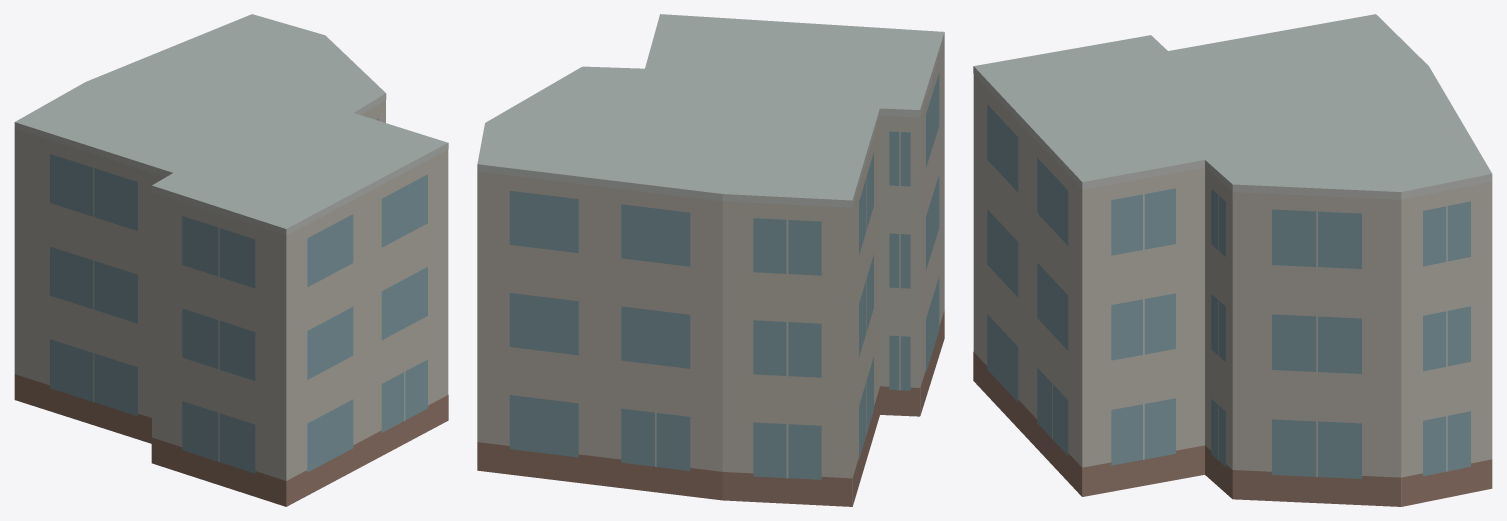
File: survey-upis-33036724.glb
3 renders of one model, left to right at view 1: azimuth 30°, elevation 25°; view 2: azimuth 150°, elevation 25°; view 3: azimuth 270°, elevation 25°, orthographic. The views are drawn at different scales.
Parts seen in each view (by area): view 1: survey-upis-33036724.tmp; view 2: survey-upis-33036724.tmp; view 3: survey-upis-33036724.tmp.
Boxes of the visible parts, <box> form: survey-upis-33036724.tmp: <box>14,14,448,506</box>; survey-upis-33036724.tmp: <box>477,14,944,506</box>; survey-upis-33036724.tmp: <box>973,14,1492,506</box>.
Size of the model in its own units: 12.38 by 10.2 by 15.24.
